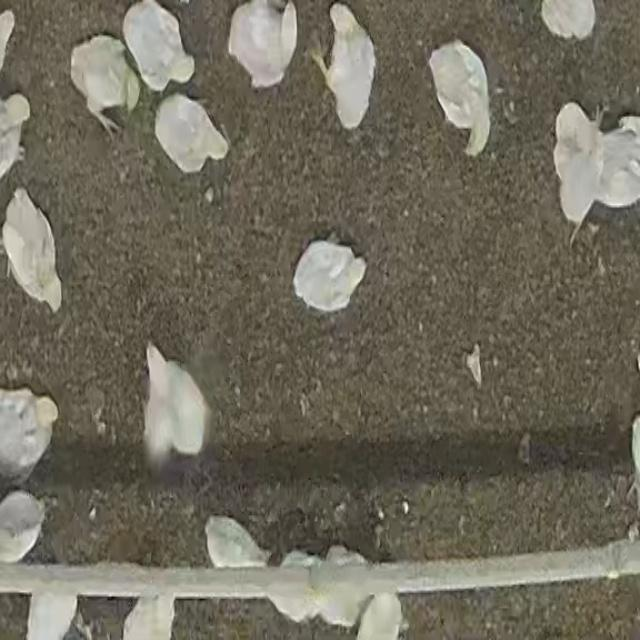chicken: (310, 3, 376, 133), (143, 344, 208, 467), (427, 39, 492, 157), (2, 187, 62, 313), (122, 1, 196, 93), (66, 35, 134, 135), (547, 104, 597, 235), (226, 0, 298, 90), (151, 91, 229, 174), (0, 386, 58, 485), (291, 242, 366, 316), (599, 110, 640, 218), (203, 515, 269, 570), (0, 489, 45, 562), (270, 556, 319, 620), (23, 590, 84, 640), (0, 89, 33, 178), (121, 591, 178, 640), (326, 546, 360, 628), (538, 0, 601, 41), (360, 594, 408, 640)
